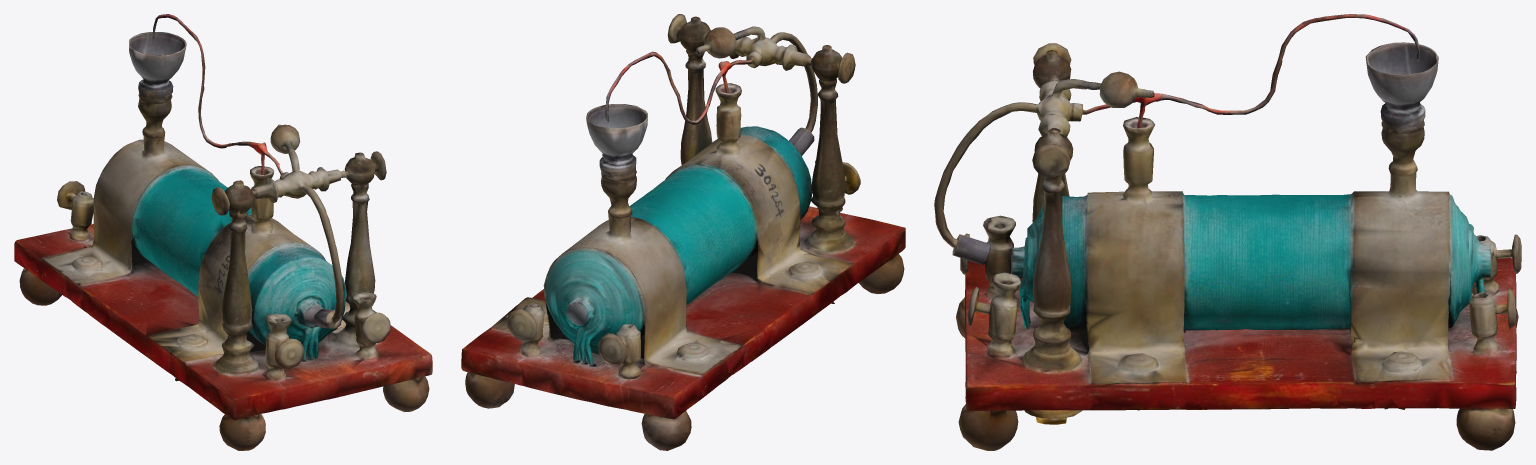
File: induction-coil.glb
3 renders of one model, left to right at view 1: azimuth 30°, elevation 25°; view 2: azimuth 150°, elevation 25°; view 3: azimuth 270°, elevation 25°, orthographic. The views are drawn at different scales.
Bounding box in the file's own units: 4.65 × 6.54 × 9.08.
Materials: 1 (1 with a texture image).
